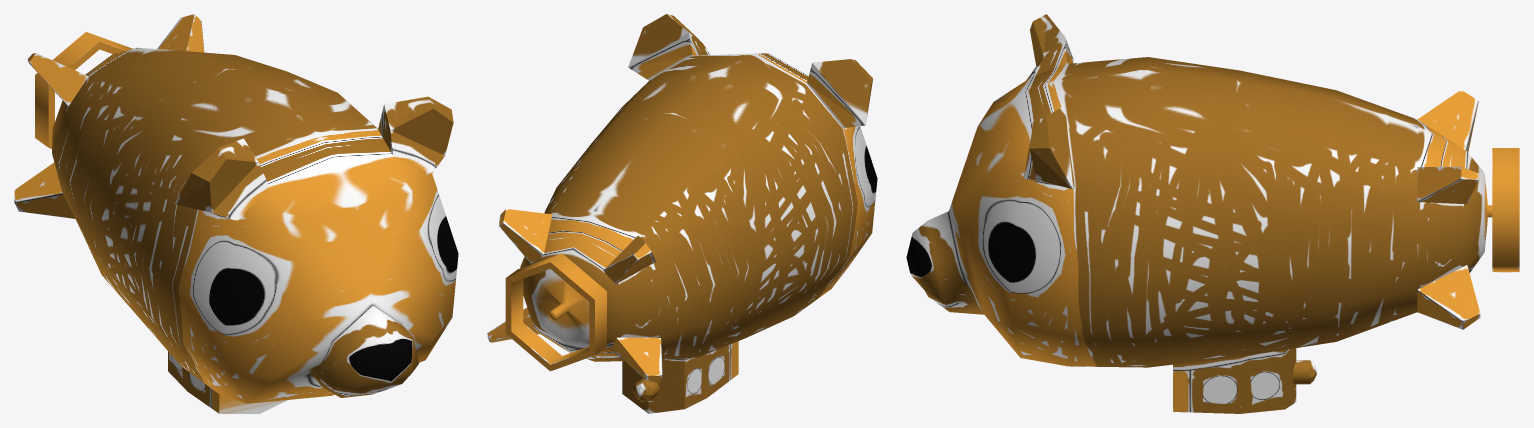
The model's file is feichuan_G.FBX.
3 views of the same model, side by side, from view 1: azimuth 30°, elevation 25°; view 2: azimuth 150°, elevation 25°; view 3: azimuth 270°, elevation 25° (orthographic). The views are drawn at different scales.
Visible parts, largest first — view 1: feichuan_G; view 2: feichuan_G; view 3: feichuan_G.
Boxes of the visible parts, x1=… form: feichuan_G: x1=14, y1=14, x2=458, y2=413; feichuan_G: x1=487, y1=14, x2=877, y2=413; feichuan_G: x1=906, y1=14, x2=1519, y2=413.
Bounding box in the file's own units: 98.66 × 119 × 194.
Materials: 1 (1 with a texture image).
